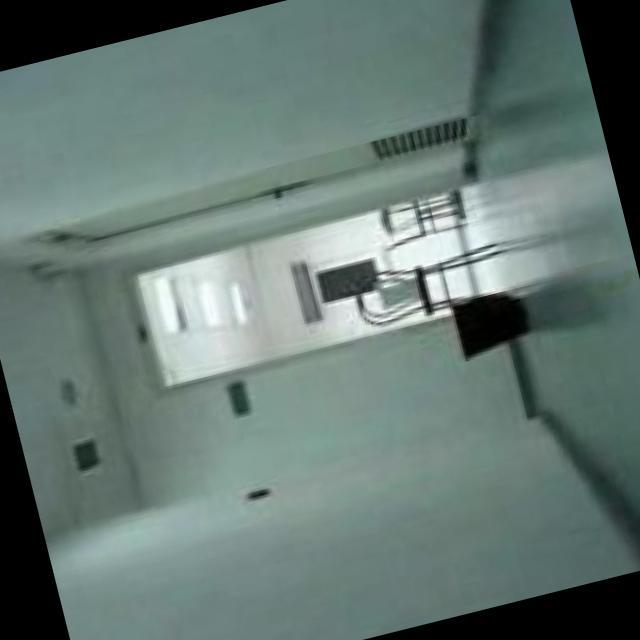Fire: (443, 317, 455, 327)
